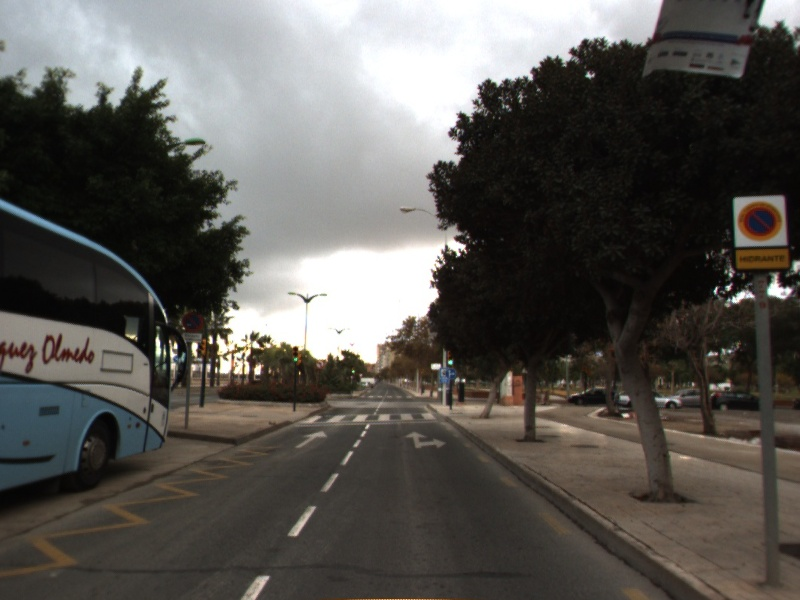STRAIGHT: (292, 429, 329, 450)
STRAIGHT_RIGHT: (403, 430, 449, 450)
